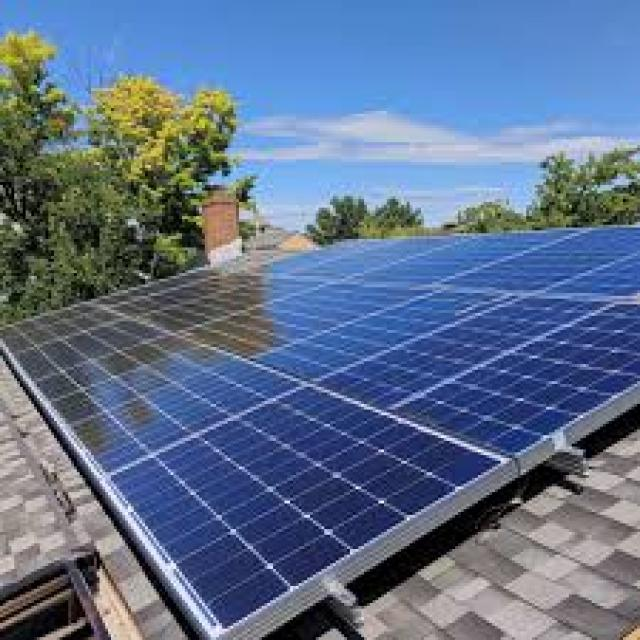Solar: (1, 217, 635, 638)
